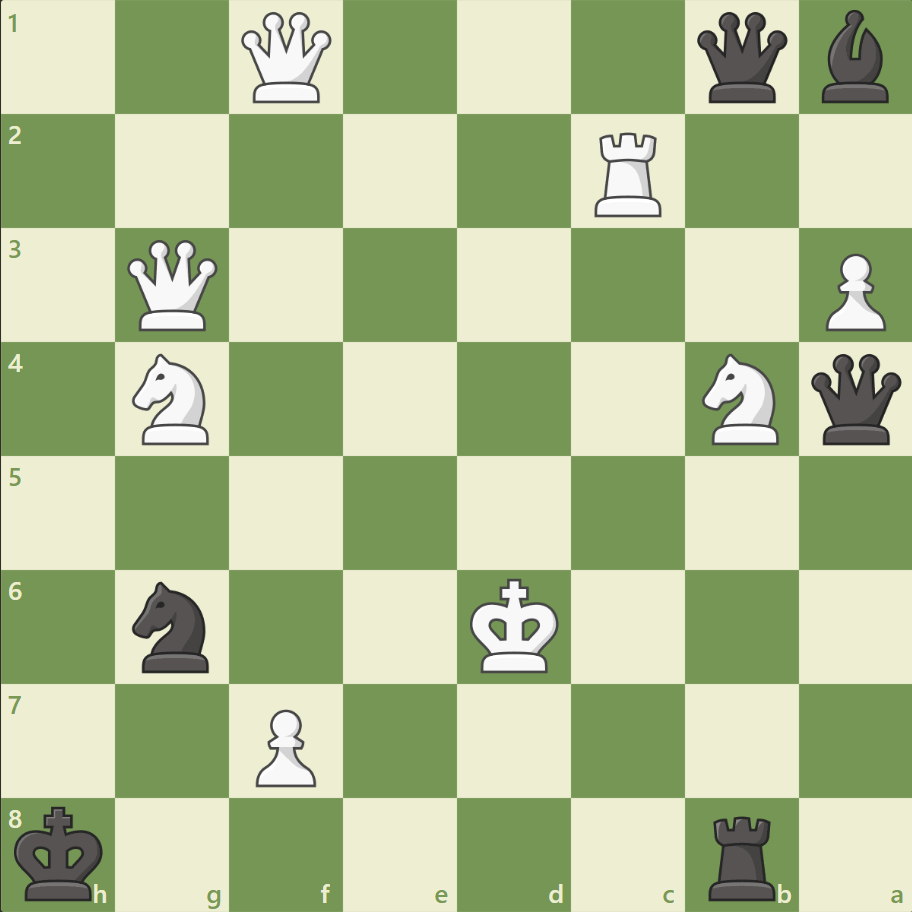K: (465, 571, 565, 679)
N: (124, 348, 222, 450), (692, 348, 789, 450)
P: (247, 700, 322, 791), (815, 246, 889, 337)
Q: (124, 236, 223, 335), (237, 9, 336, 108)
R: (587, 125, 670, 222)
b: (812, 6, 896, 109)
k: (11, 798, 111, 906)
n: (124, 575, 222, 677)
q: (805, 349, 904, 449), (691, 9, 790, 108)
r: (700, 806, 783, 904)
